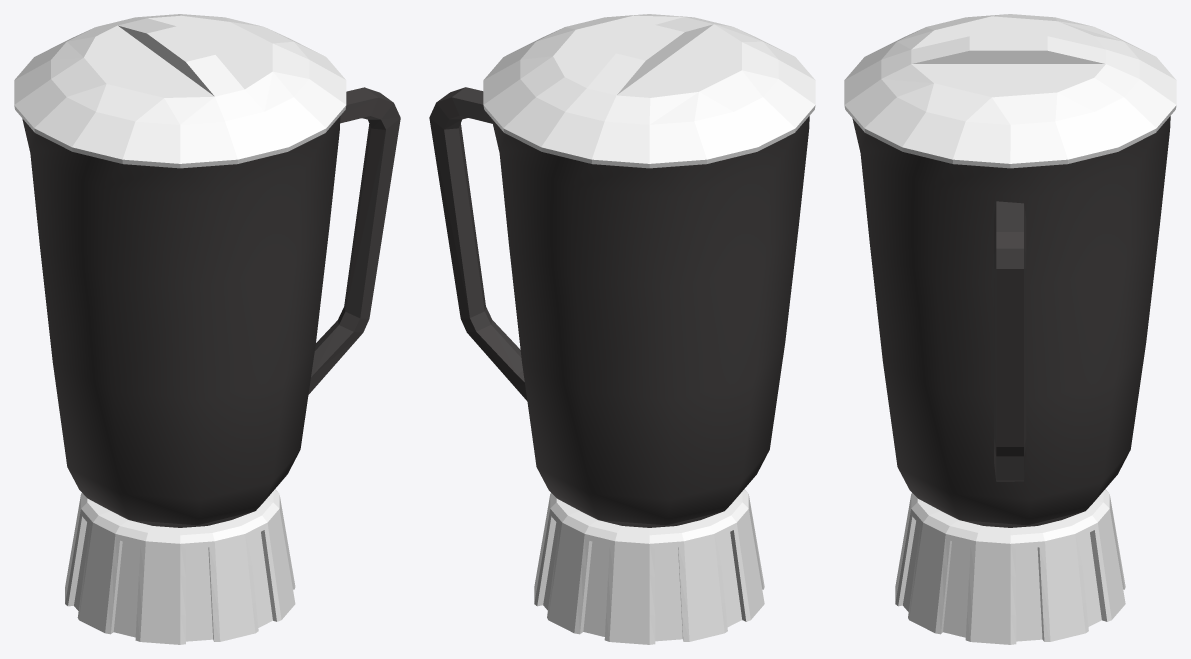
The model's file is Kitchen_Juicer.FBX.
3 views of the same model, side by side, from view 1: azimuth 30°, elevation 25°; view 2: azimuth 150°, elevation 25°; view 3: azimuth 270°, elevation 25° (orthographic).
Visible parts, largest first — view 1: Kitchen_juicer; view 2: Kitchen_juicer; view 3: Kitchen_juicer.
Part boxes in pixels (x1,y1,x2,y2): Kitchen_juicer: (14, 14, 400, 644); Kitchen_juicer: (429, 14, 815, 644); Kitchen_juicer: (844, 14, 1176, 644).
Size of the model in its own units: 0.2505 by 0.3677 by 0.2005.
